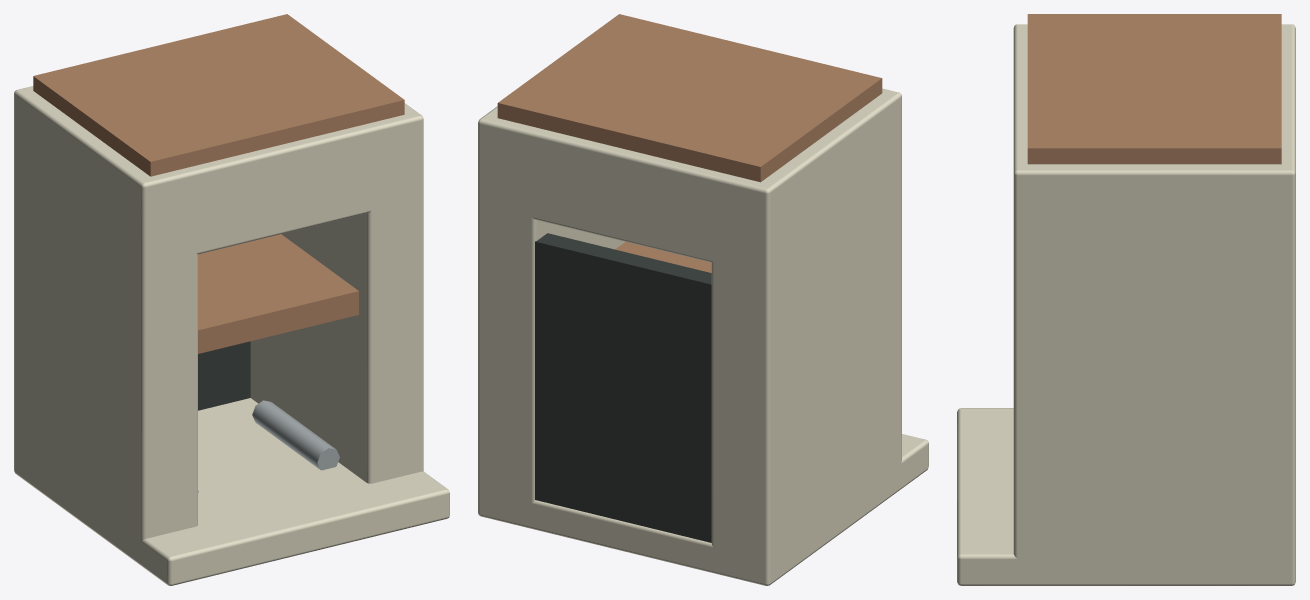
File: rural-scavenging-settlements-smokehouse-firebox-299b75b6__26535.glb
3 renders of one model, left to right at view 1: azimuth 30°, elevation 25°; view 2: azimuth 150°, elevation 25°; view 3: azimuth 270°, elevation 25°, orthographic. The views are drawn at different scales.
Visible parts, largest first — view 1: smokehouse-firebox; view 2: smokehouse-firebox; view 3: smokehouse-firebox.
Part boxes in pixels (bbox=[...]): smokehouse-firebox: bbox=[14, 14, 449, 585]; smokehouse-firebox: bbox=[478, 14, 928, 585]; smokehouse-firebox: bbox=[957, 14, 1295, 585].
Size of the model in its own units: 1 by 1.35 by 0.96.
